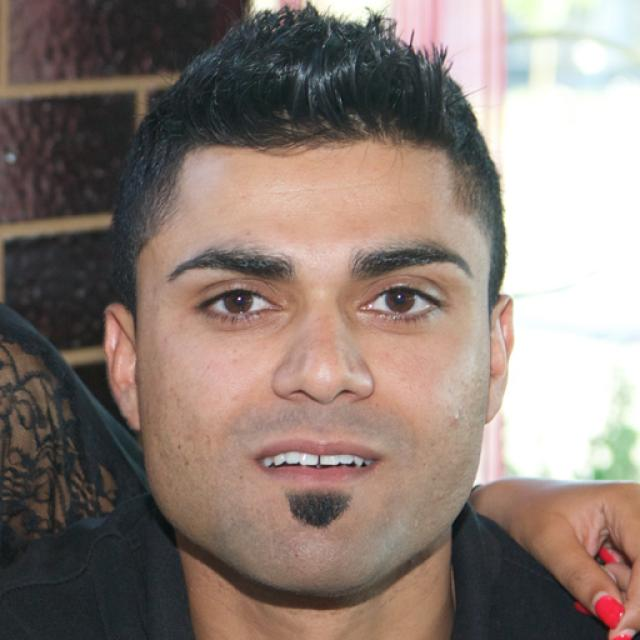Acne: (449, 408, 463, 427)
